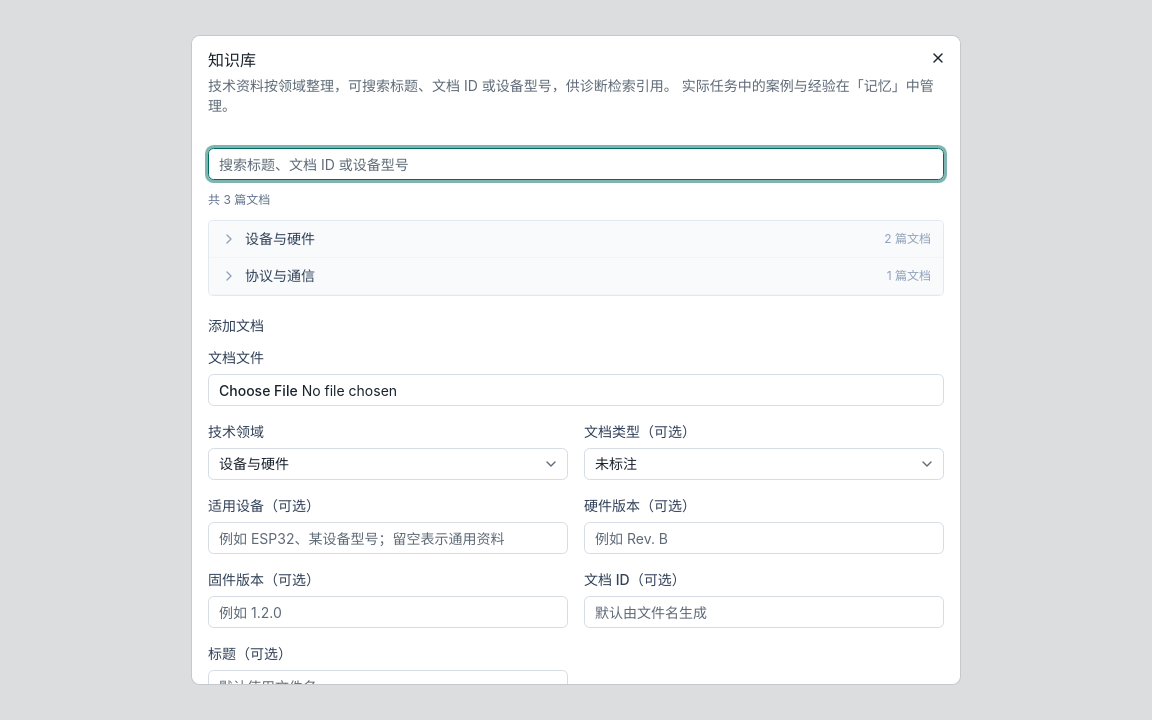
Test: KnowledgeDialog organization › merges hardware sources, hides empty categories and moves chunk counts into details
Step 1. Click the button "设备与硬件 2 篇文档" → coordinates (280, 238), box 209,221 -> 943,258
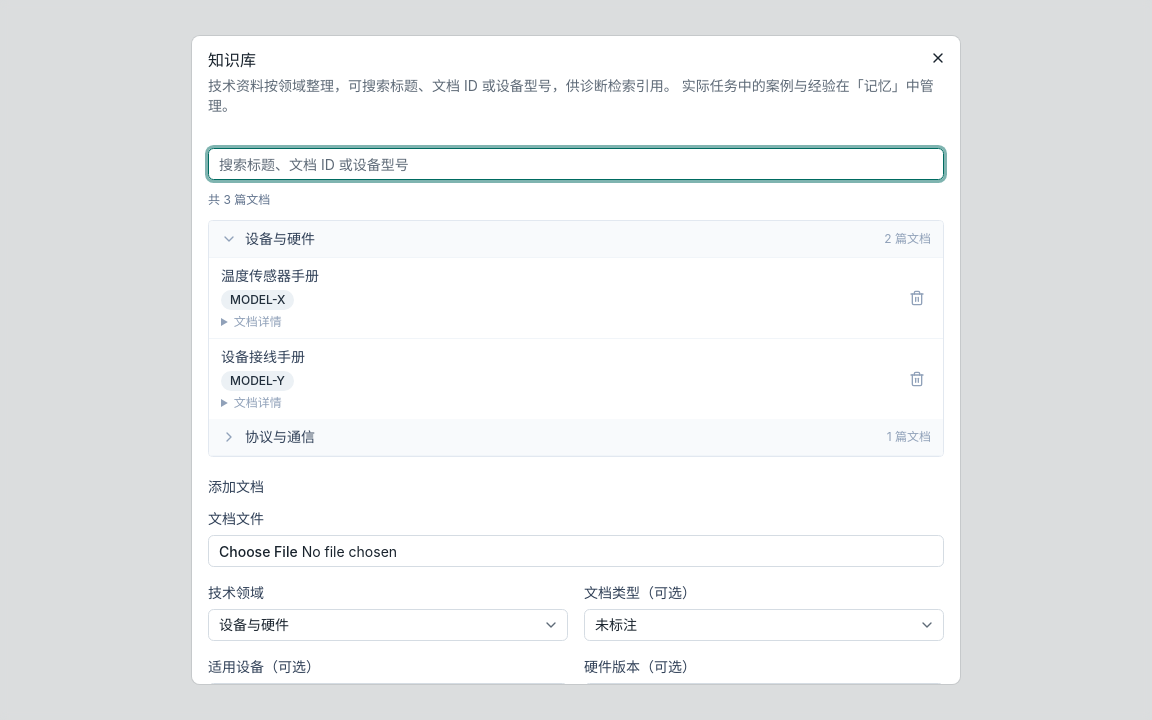
Check: the text "sensor · 10 分块" is not shown
Check: the text "温度传感器手册" is shown, box 221,266 -> 319,286
Check: the text "设备接线手册" is shown, box 221,347 -> 305,367
Step 2. Click the heading "文档详情" below "MODEL-X" → coordinates (258, 322), box 234,314 -> 282,329
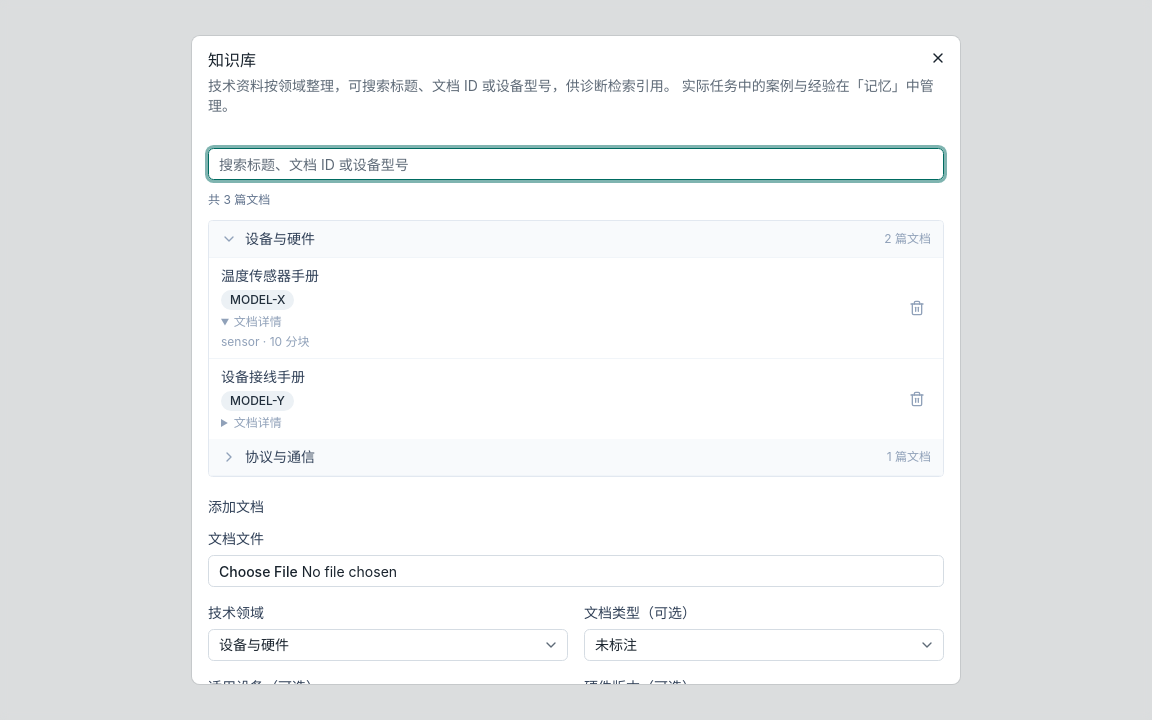
Check: the text "sensor · 10 分块" is shown, box 221,334 -> 319,350
Step 3. Click the button "设备与硬件 2 篇文档" → coordinates (280, 238), box 209,221 -> 943,258
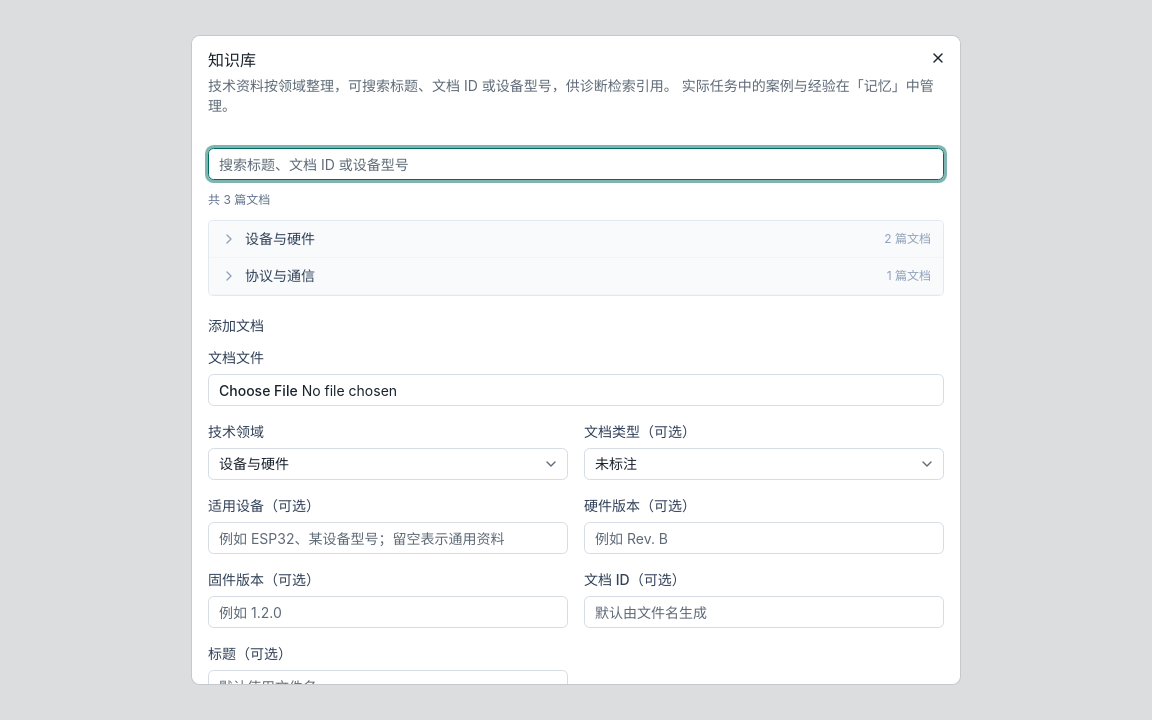
Check: the text "温度传感器手册" is gone
Check: the button "设备与硬件 2 篇文档" is collapsed, box 209,221 -> 943,258
